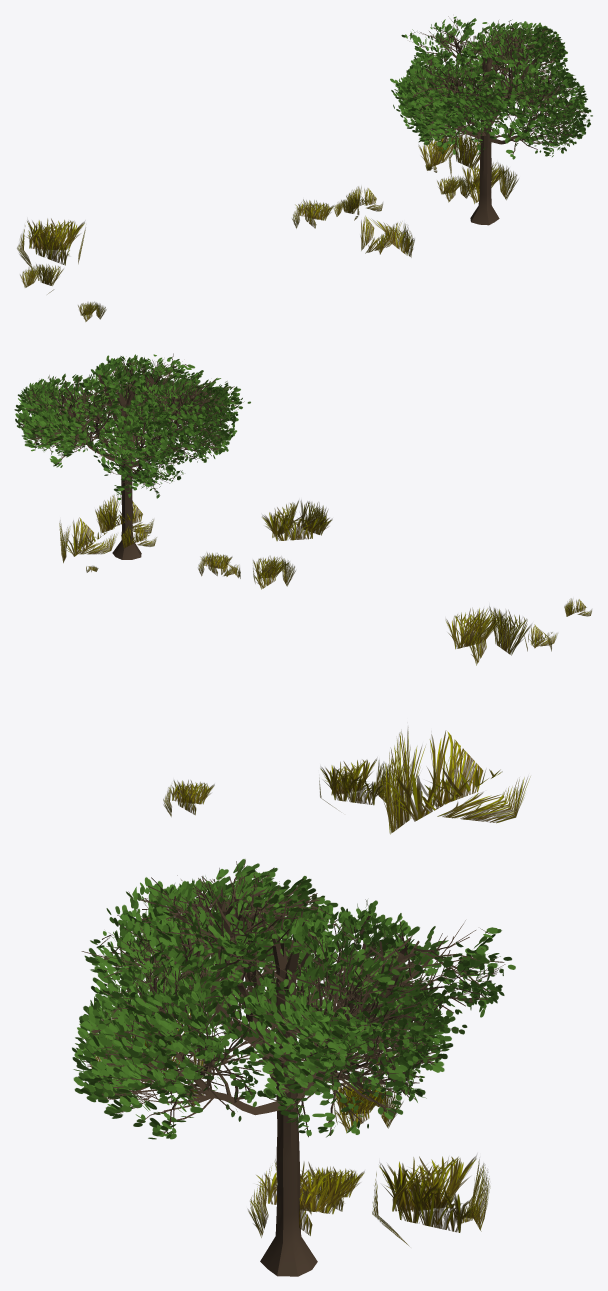
The picture shows the model from 3 angles, top to bottom: view 1: azimuth 30°, elevation 25°; view 2: azimuth 150°, elevation 25°; view 3: azimuth 270°, elevation 25°; orthographic projection. The views are drawn at different scales.
Visible parts, largest first — view 1: Low Poly Stylized 2D Grass.3114; view 2: Low Poly Stylized 2D Grass.3114; view 3: Low Poly Stylized 2D Grass.3114.
Part boxes in pixels (x1,y1,x2,y2): Low Poly Stylized 2D Grass.3114: (17, 16, 592, 321); Low Poly Stylized 2D Grass.3114: (14, 353, 591, 665); Low Poly Stylized 2D Grass.3114: (72, 727, 530, 1276).
Bounding box in the file's own units: 14.68 × 4.39 × 5.52.
Materials: 3 (2 with a texture image).
